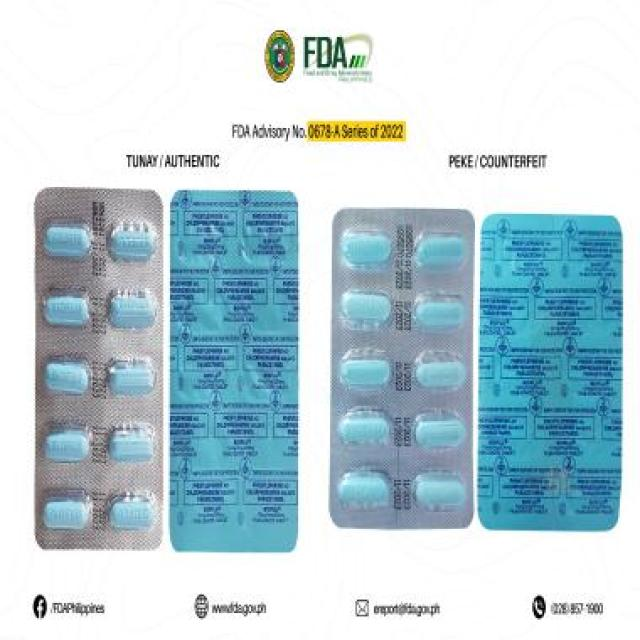Bioflu_Strip: (17, 174, 171, 565), (322, 198, 478, 550)
